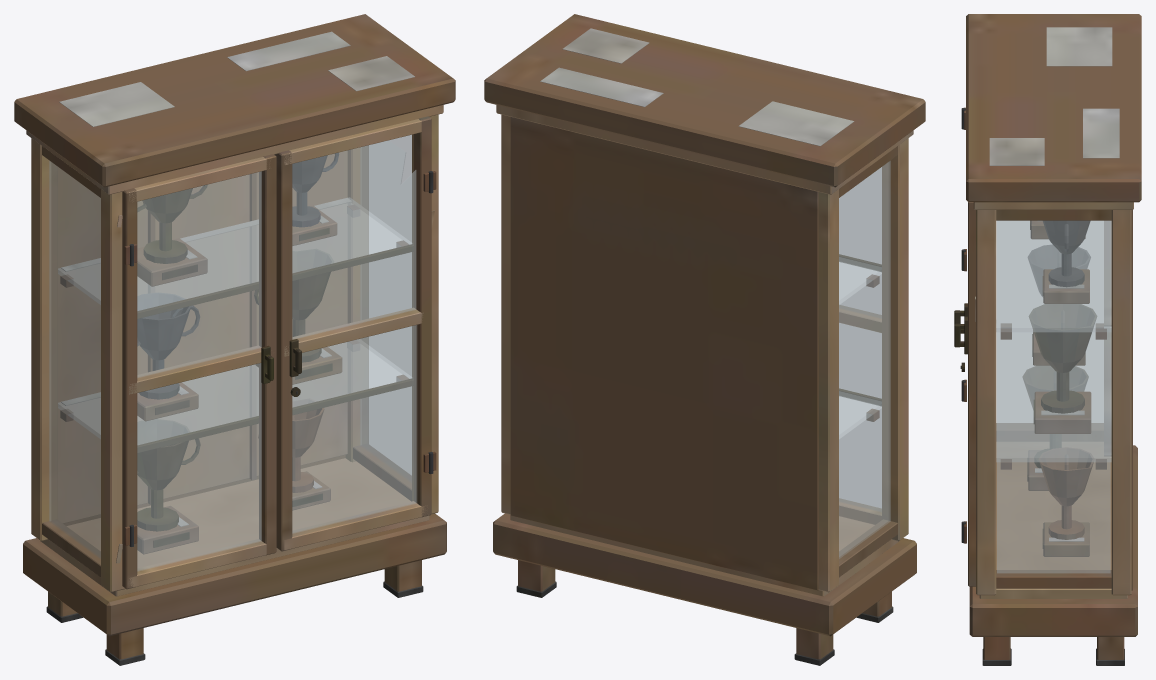
The model's file is S14_trophy_cabinet.glb.
3 views of the same model, side by side, from view 1: azimuth 30°, elevation 25°; view 2: azimuth 150°, elevation 25°; view 3: azimuth 270°, elevation 25° (orthographic). The views are drawn at different scales.
Parts seen in each view (by area): view 1: Short square wooden foot; view 2: Short square wooden foot; view 3: Short square wooden foot.
Boxes of the visible parts, left/top/right/bottom form: Short square wooden foot: left=14, top=14, right=455, bottom=665; Short square wooden foot: left=484, top=14, right=925, bottom=665; Short square wooden foot: left=954, top=14, right=1141, bottom=665.
Size of the model in its own units: 1.08 by 1.5 by 0.5117.
Materials: 8 (7 with a texture image).
